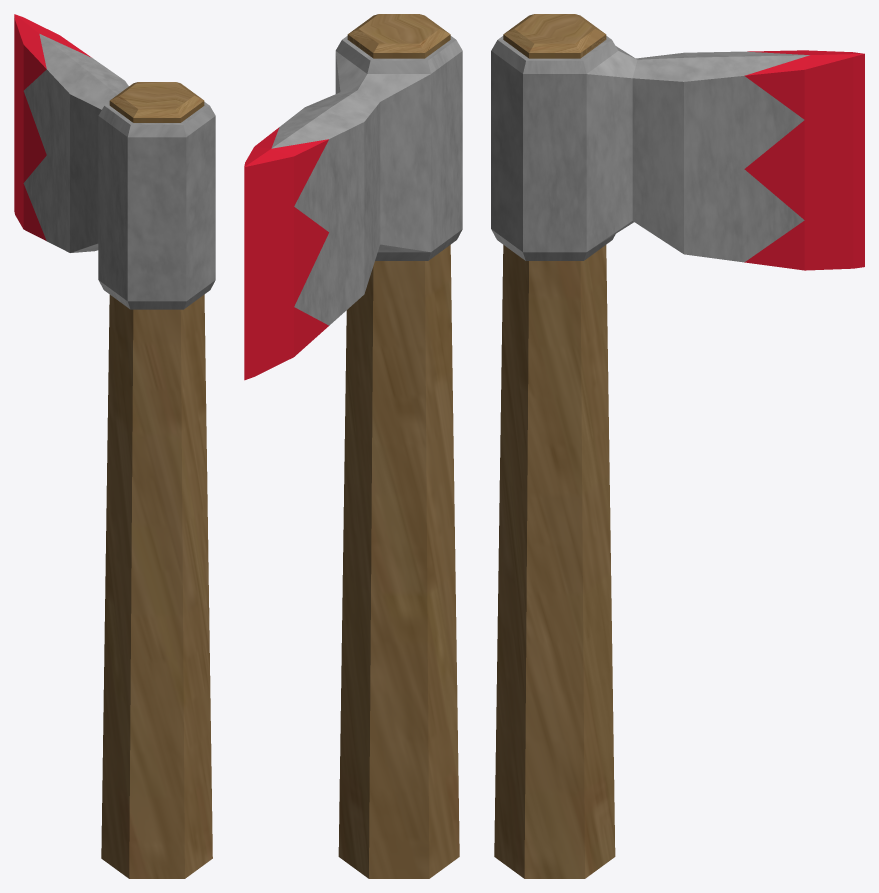
File: item_axe_ruby.fbx
The picture shows the model from 3 angles, left to right: view 1: azimuth 30°, elevation 25°; view 2: azimuth 150°, elevation 25°; view 3: azimuth 270°, elevation 25°; orthographic projection. The views are drawn at different scales.
Visible parts, largest first — view 1: Edge; view 2: Edge; view 3: Edge.
Boxes of the visible parts, box(x1,y1,x2,y2) form: Edge: box(14, 14, 215, 878); Edge: box(244, 14, 462, 878); Edge: box(491, 14, 864, 878).
Bounding box in the file's own units: 182 × 1510 × 618.
Materials: 3 (2 with a texture image).
